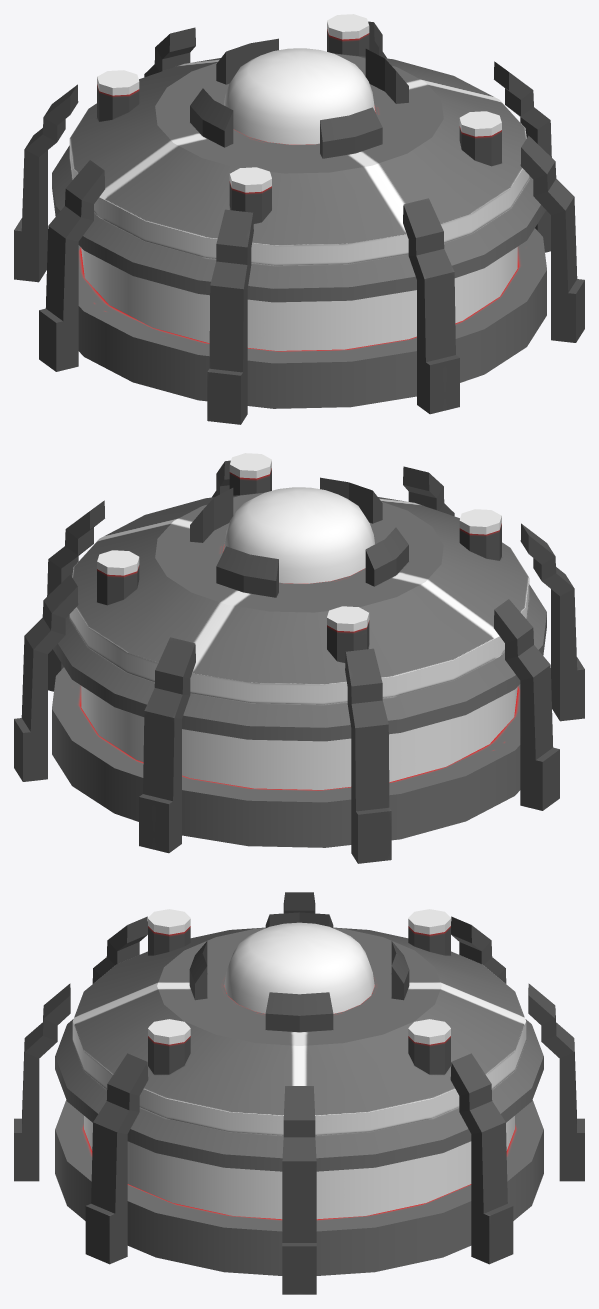
The model's file is MaineBase.fbx.
3 renders of one model, top to bottom at view 1: azimuth 30°, elevation 25°; view 2: azimuth 150°, elevation 25°; view 3: azimuth 270°, elevation 25°, orthographic.
Parts seen in each view (by area): view 1: P_MaineBase_BaseColor, P_MaineBase_ChangeColor; view 2: P_MaineBase_BaseColor, P_MaineBase_ChangeColor; view 3: P_MaineBase_BaseColor, P_MaineBase_ChangeColor.
Boxes of the visible parts, x1,y1,x2,y2 form: P_MaineBase_BaseColor: [14, 21, 584, 424]; P_MaineBase_ChangeColor: [81, 14, 517, 350]; P_MaineBase_BaseColor: [14, 460, 584, 863]; P_MaineBase_ChangeColor: [81, 453, 517, 789]; P_MaineBase_BaseColor: [14, 892, 584, 1294]; P_MaineBase_ChangeColor: [84, 909, 514, 1219].
Size of the model in its own units: 39.84 by 18.32 by 39.84.
Materials: 2 (2 with a texture image).
